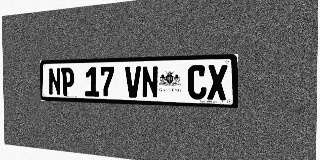1: (85, 67, 99, 97)
7: (99, 67, 114, 97)
C: (188, 65, 207, 100)
N: (142, 66, 158, 98), (48, 68, 61, 96)
P: (61, 67, 74, 96)
V: (125, 66, 141, 98)
X: (207, 64, 227, 100)
